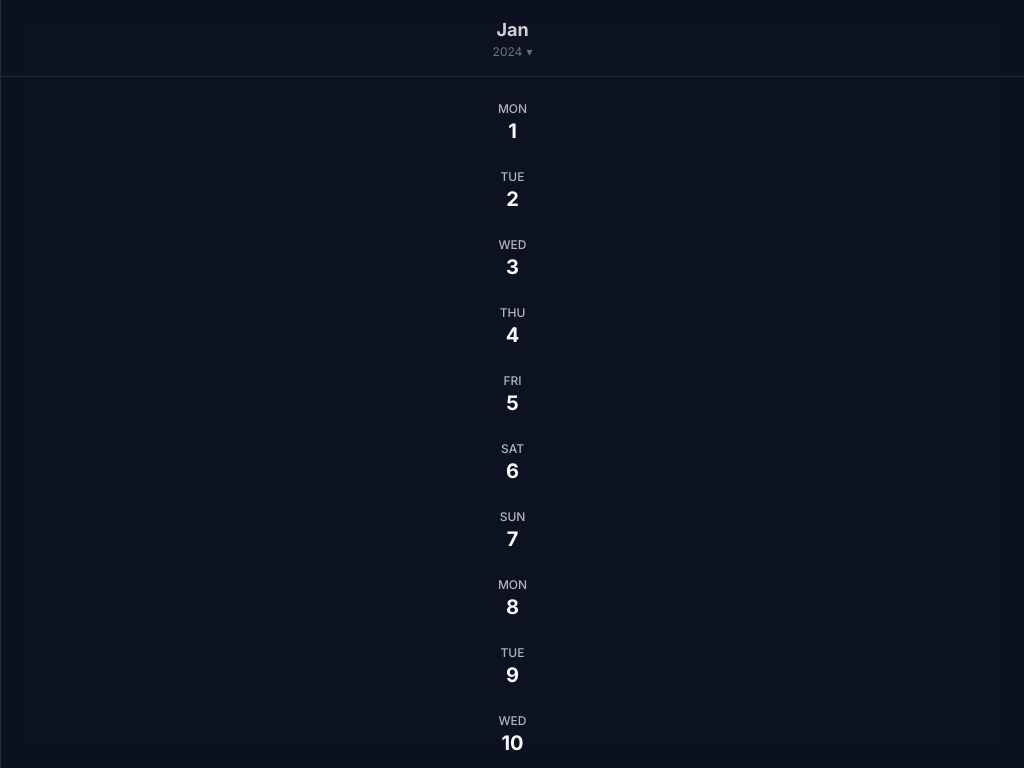
Test: VerticalCalendar › Month Picker › toggles month picker closed when header button is clicked twice
This screenshot has width=1024, height=768.
What coordinates should you click on to do the following:
click the button "Jan 2024 ▾"
I would click on:
 (512, 38)
Its box is [1,0,1023,77].
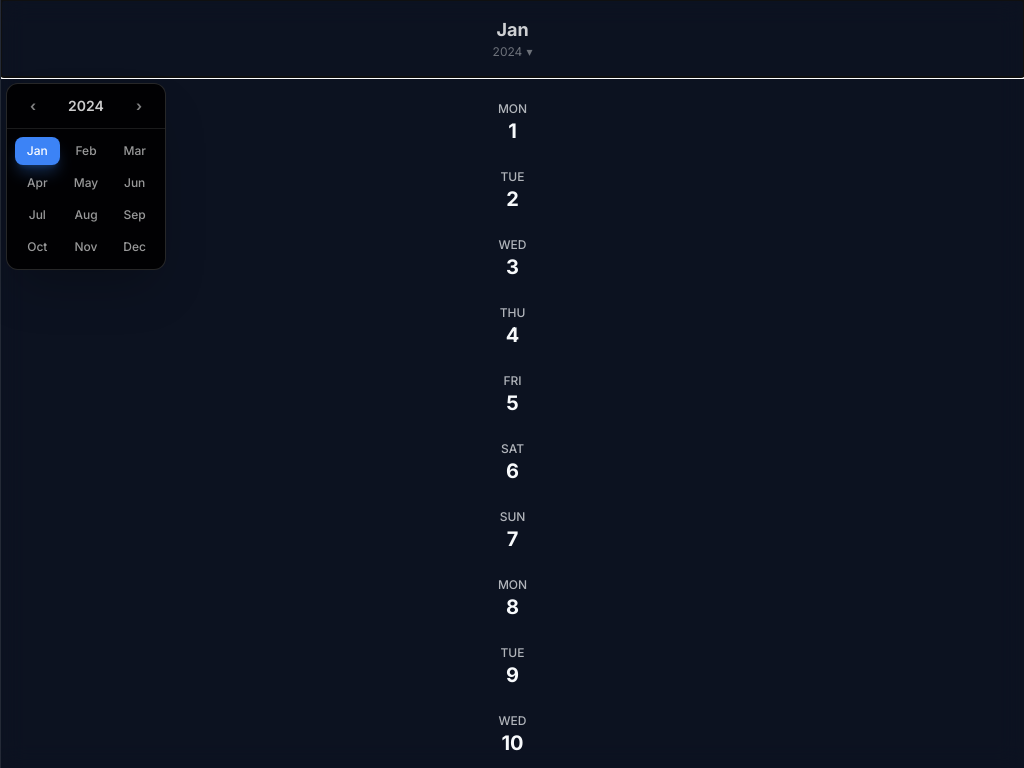
Expected: the button "Feb" is shown, [64,137,108,165]
What coordinates should you click on to do the following:
click the button "Jan 2024 ▾"
I would click on:
 (512, 38)
Its box is [1,0,1023,77].
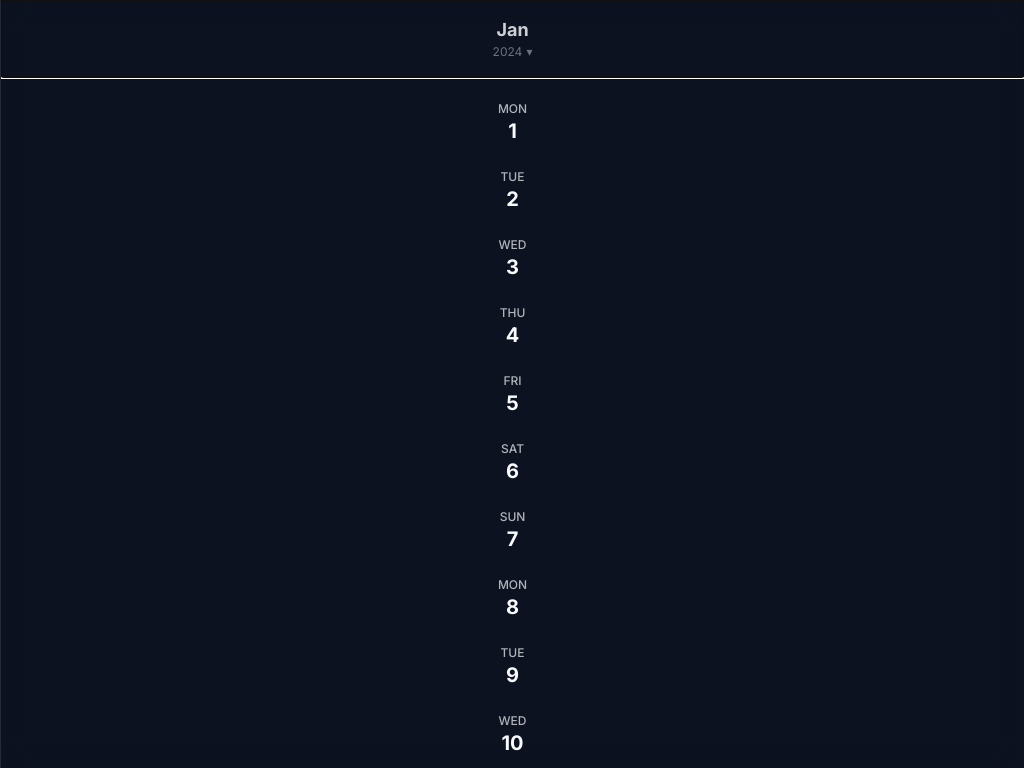
Expected: the button "Feb" is gone
